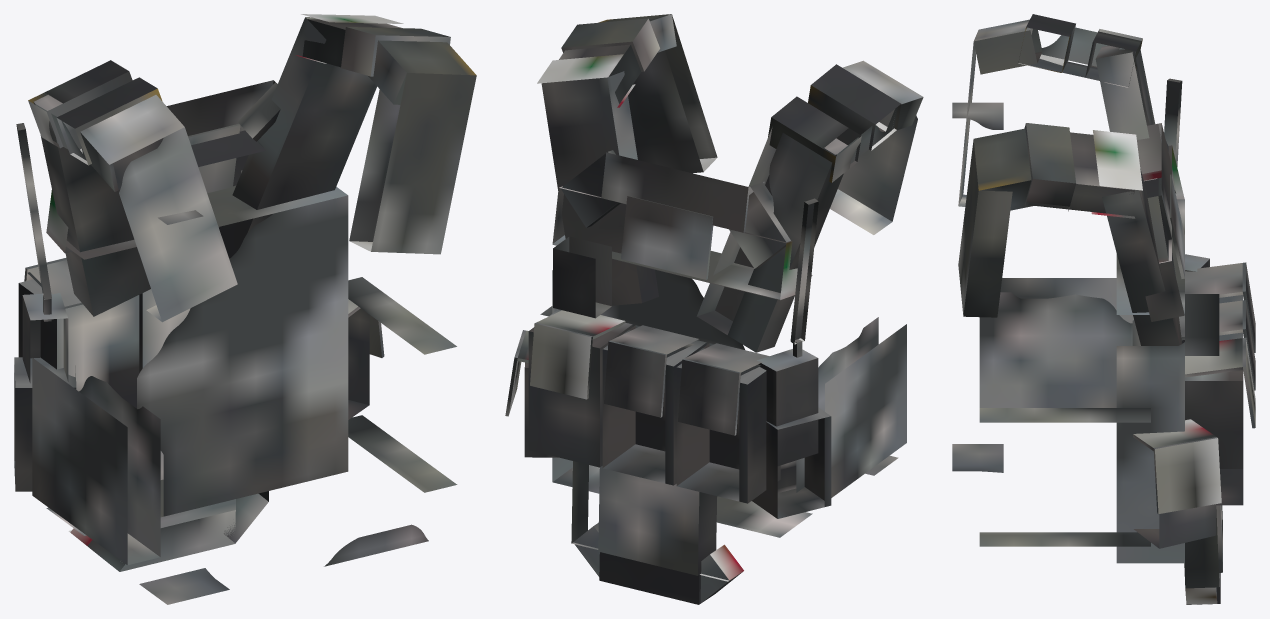
Rendered from nato_ii.obj.
The picture shows the model from 3 angles, left to right: view 1: azimuth 30°, elevation 25°; view 2: azimuth 150°, elevation 25°; view 3: azimuth 270°, elevation 25°; orthographic projection. The views are drawn at different scales.
Visible parts, largest first — view 1: nato_ii; view 2: nato_ii; view 3: nato_ii.
Boxes of the visible parts, x1=… form: nato_ii: x1=14, y1=14, x2=476, y2=604; nato_ii: x1=505, y1=14, x2=923, y2=604; nato_ii: x1=952, y1=14, x2=1255, y2=604.
Size of the model in its own units: 0.7185 by 1.02 by 0.5538.
